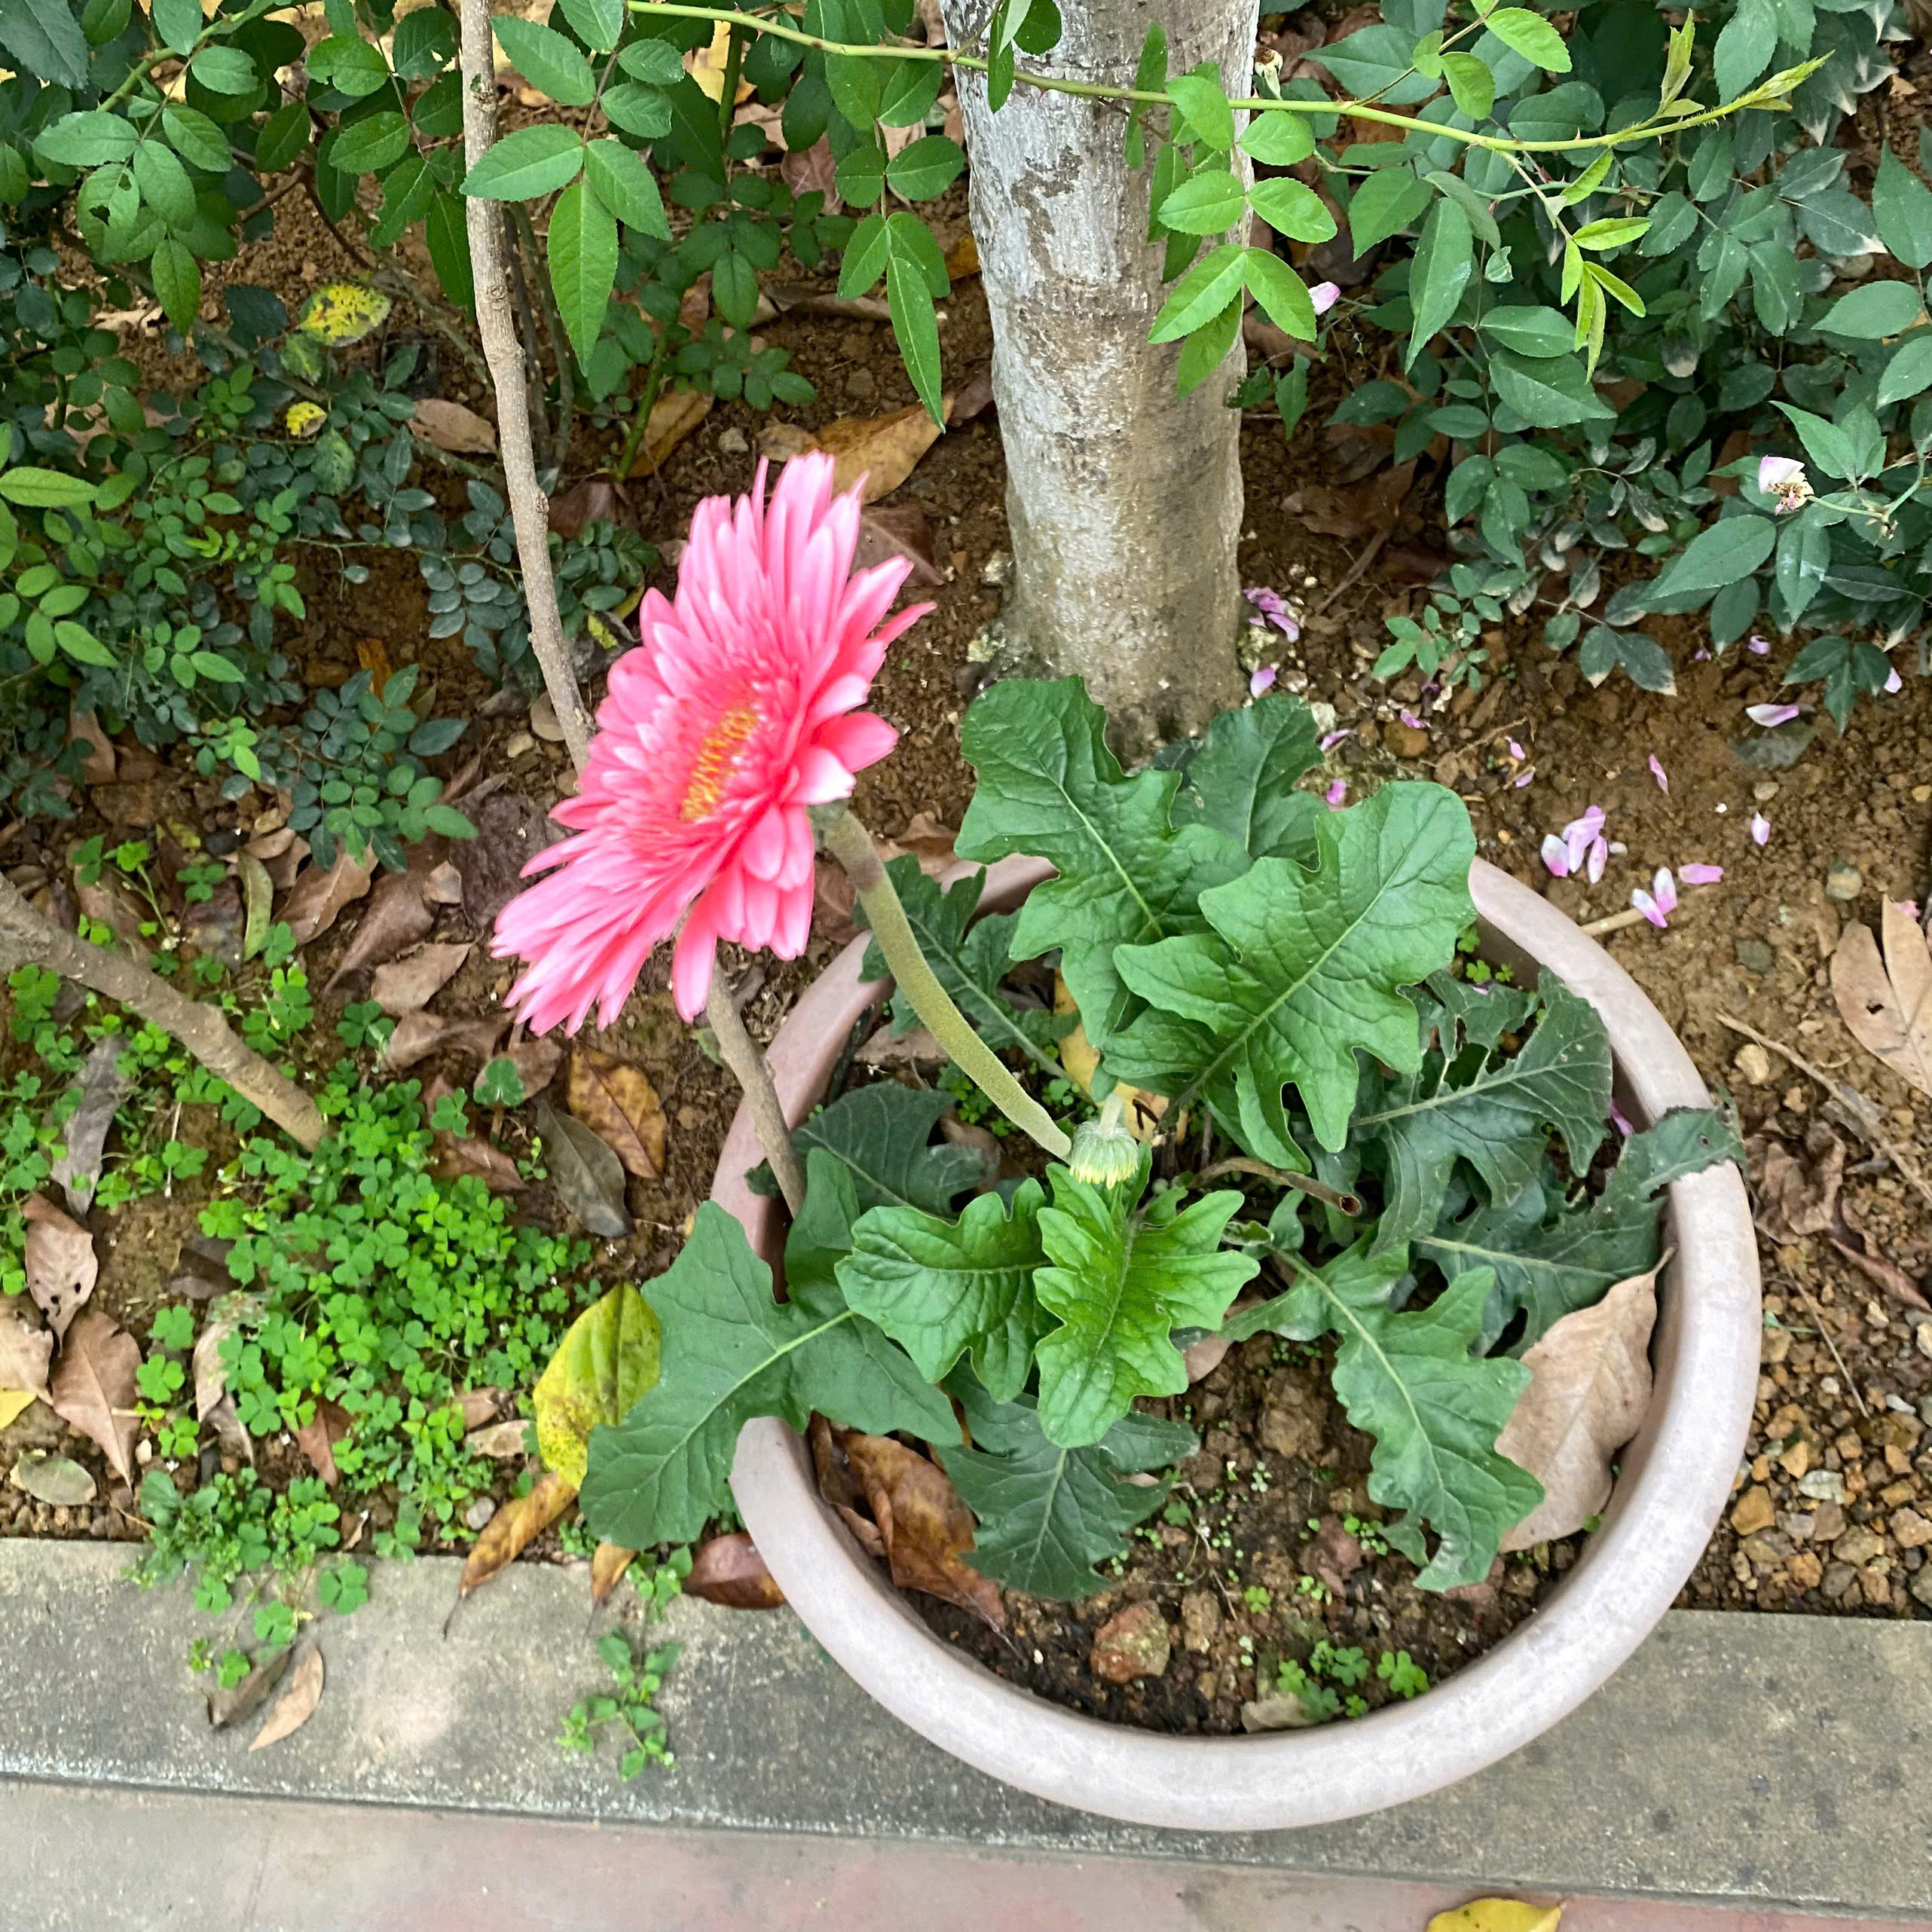hoa_hong_phan: (449, 441, 1698, 1631)
